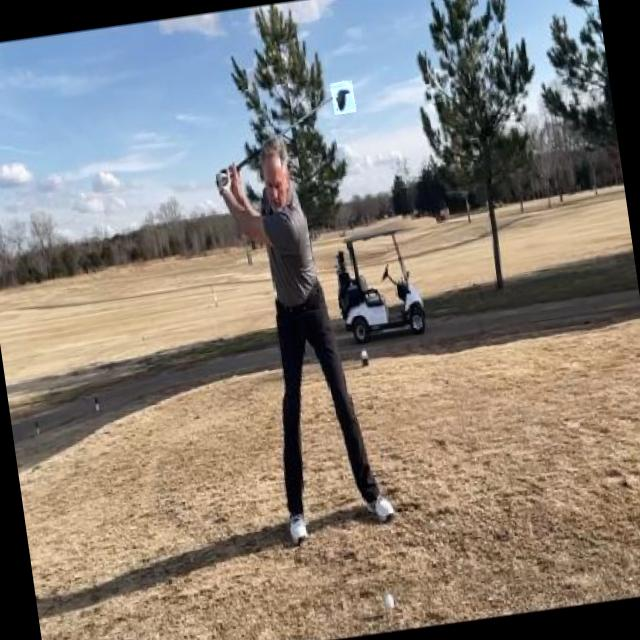club head: (331, 80, 356, 115)
